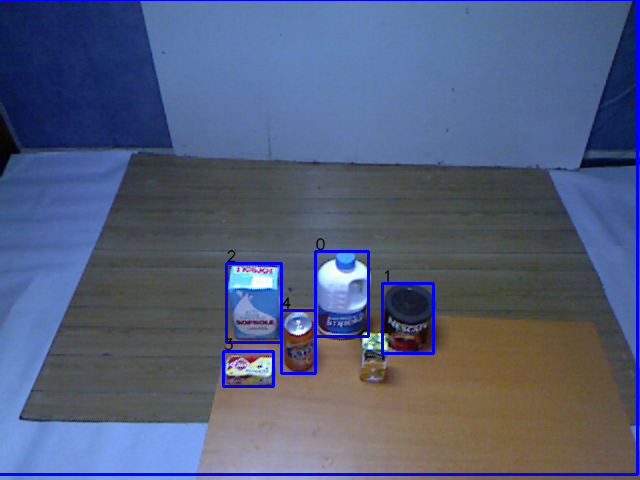cafe: (377, 281, 440, 358)
cloro: (312, 245, 371, 345)
jugoind: (354, 329, 392, 387)
lata: (278, 309, 320, 377)
leche: (226, 261, 287, 342)
mantequilla: (221, 351, 276, 388)
